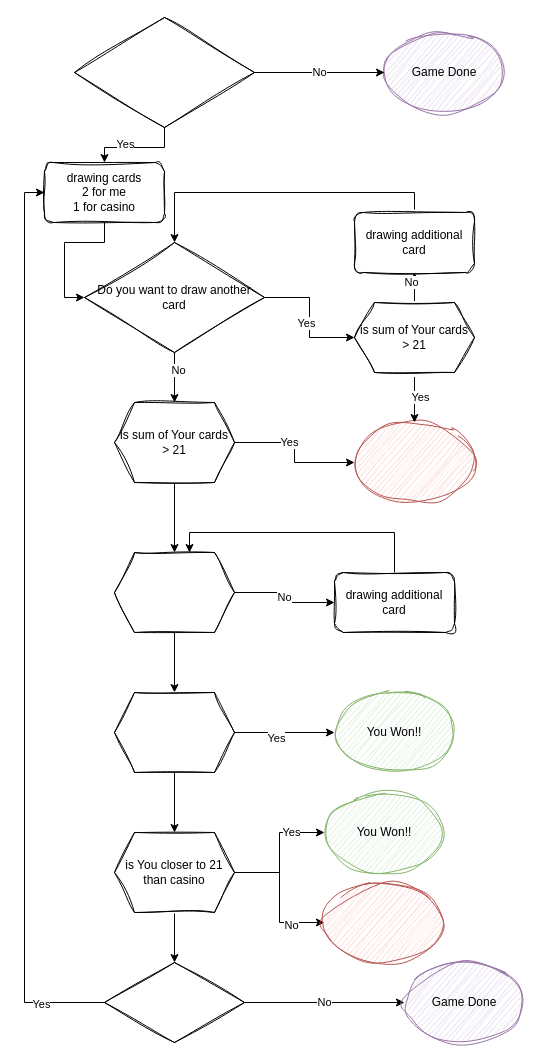
Some shapes in this 542 by 1060 pixel diagram are drawn without their labels. The shapes that lost their labels are listed below. From the top down, each one's centre as x and y in pixels, then its label:
point 164,72: Do you want to play a game of Blackjack? Type 'y' or 'n'
point 414,462: Game over
point 174,592: is casino sum card >17
point 174,732: is casion over >21
point 384,922: You lost, game over
point 174,1002: Do You want to play another game
